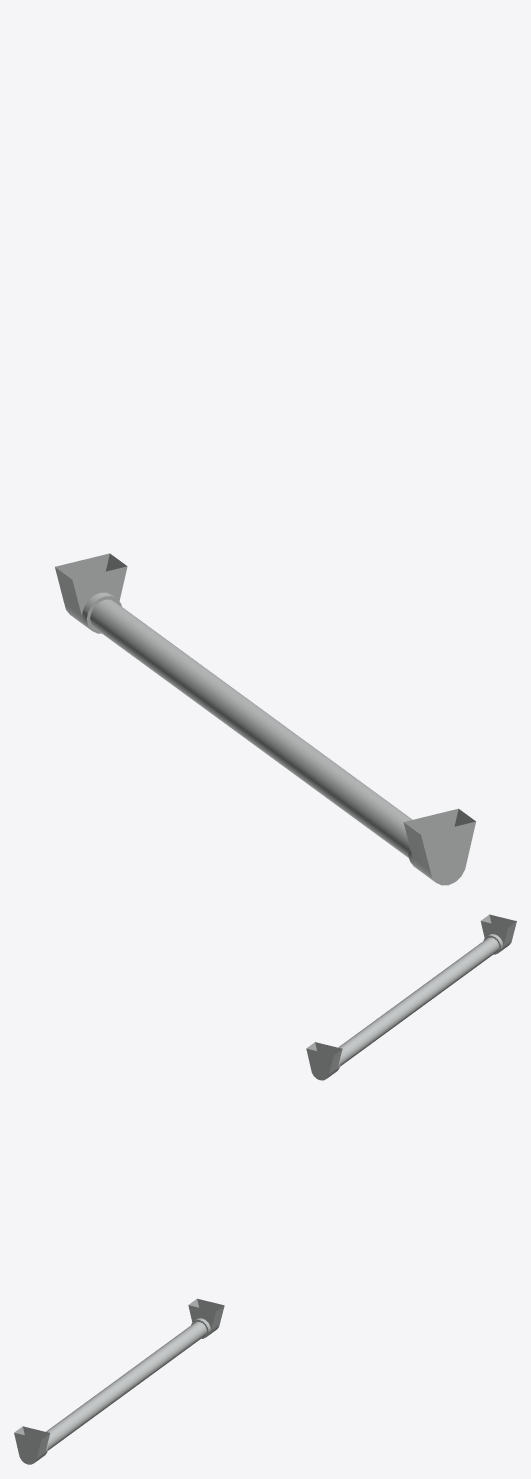
The model's file is MeshFridgeMaindoorB3_4_GeomSubset_1.obj.
The picture shows the model from 3 angles, top to bottom: view 1: azimuth 30°, elevation 25°; view 2: azimuth 150°, elevation 25°; view 3: azimuth 330°, elevation 25°; orthographic projection. The views are drawn at different scales.
Visible parts, largest first — view 1: MeshFridgeMaindoorB3_4_GeomSubset_1; view 2: MeshFridgeMaindoorB3_4_GeomSubset_1; view 3: MeshFridgeMaindoorB3_4_GeomSubset_1.
Part boxes in pixels (bbox=[...]): MeshFridgeMaindoorB3_4_GeomSubset_1: bbox=[55, 553, 475, 885]; MeshFridgeMaindoorB3_4_GeomSubset_1: bbox=[306, 914, 516, 1080]; MeshFridgeMaindoorB3_4_GeomSubset_1: bbox=[14, 1298, 224, 1464].
Bounding box in the file's own units: 0.3691 × 0.312 × 1.17.
